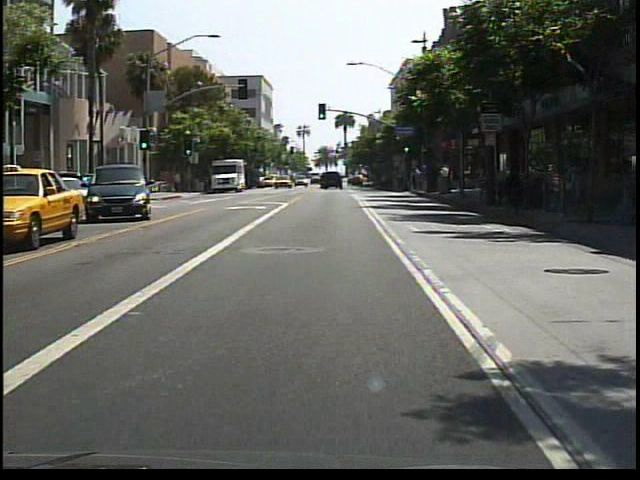person: (173, 167, 186, 194), (164, 171, 176, 194)
